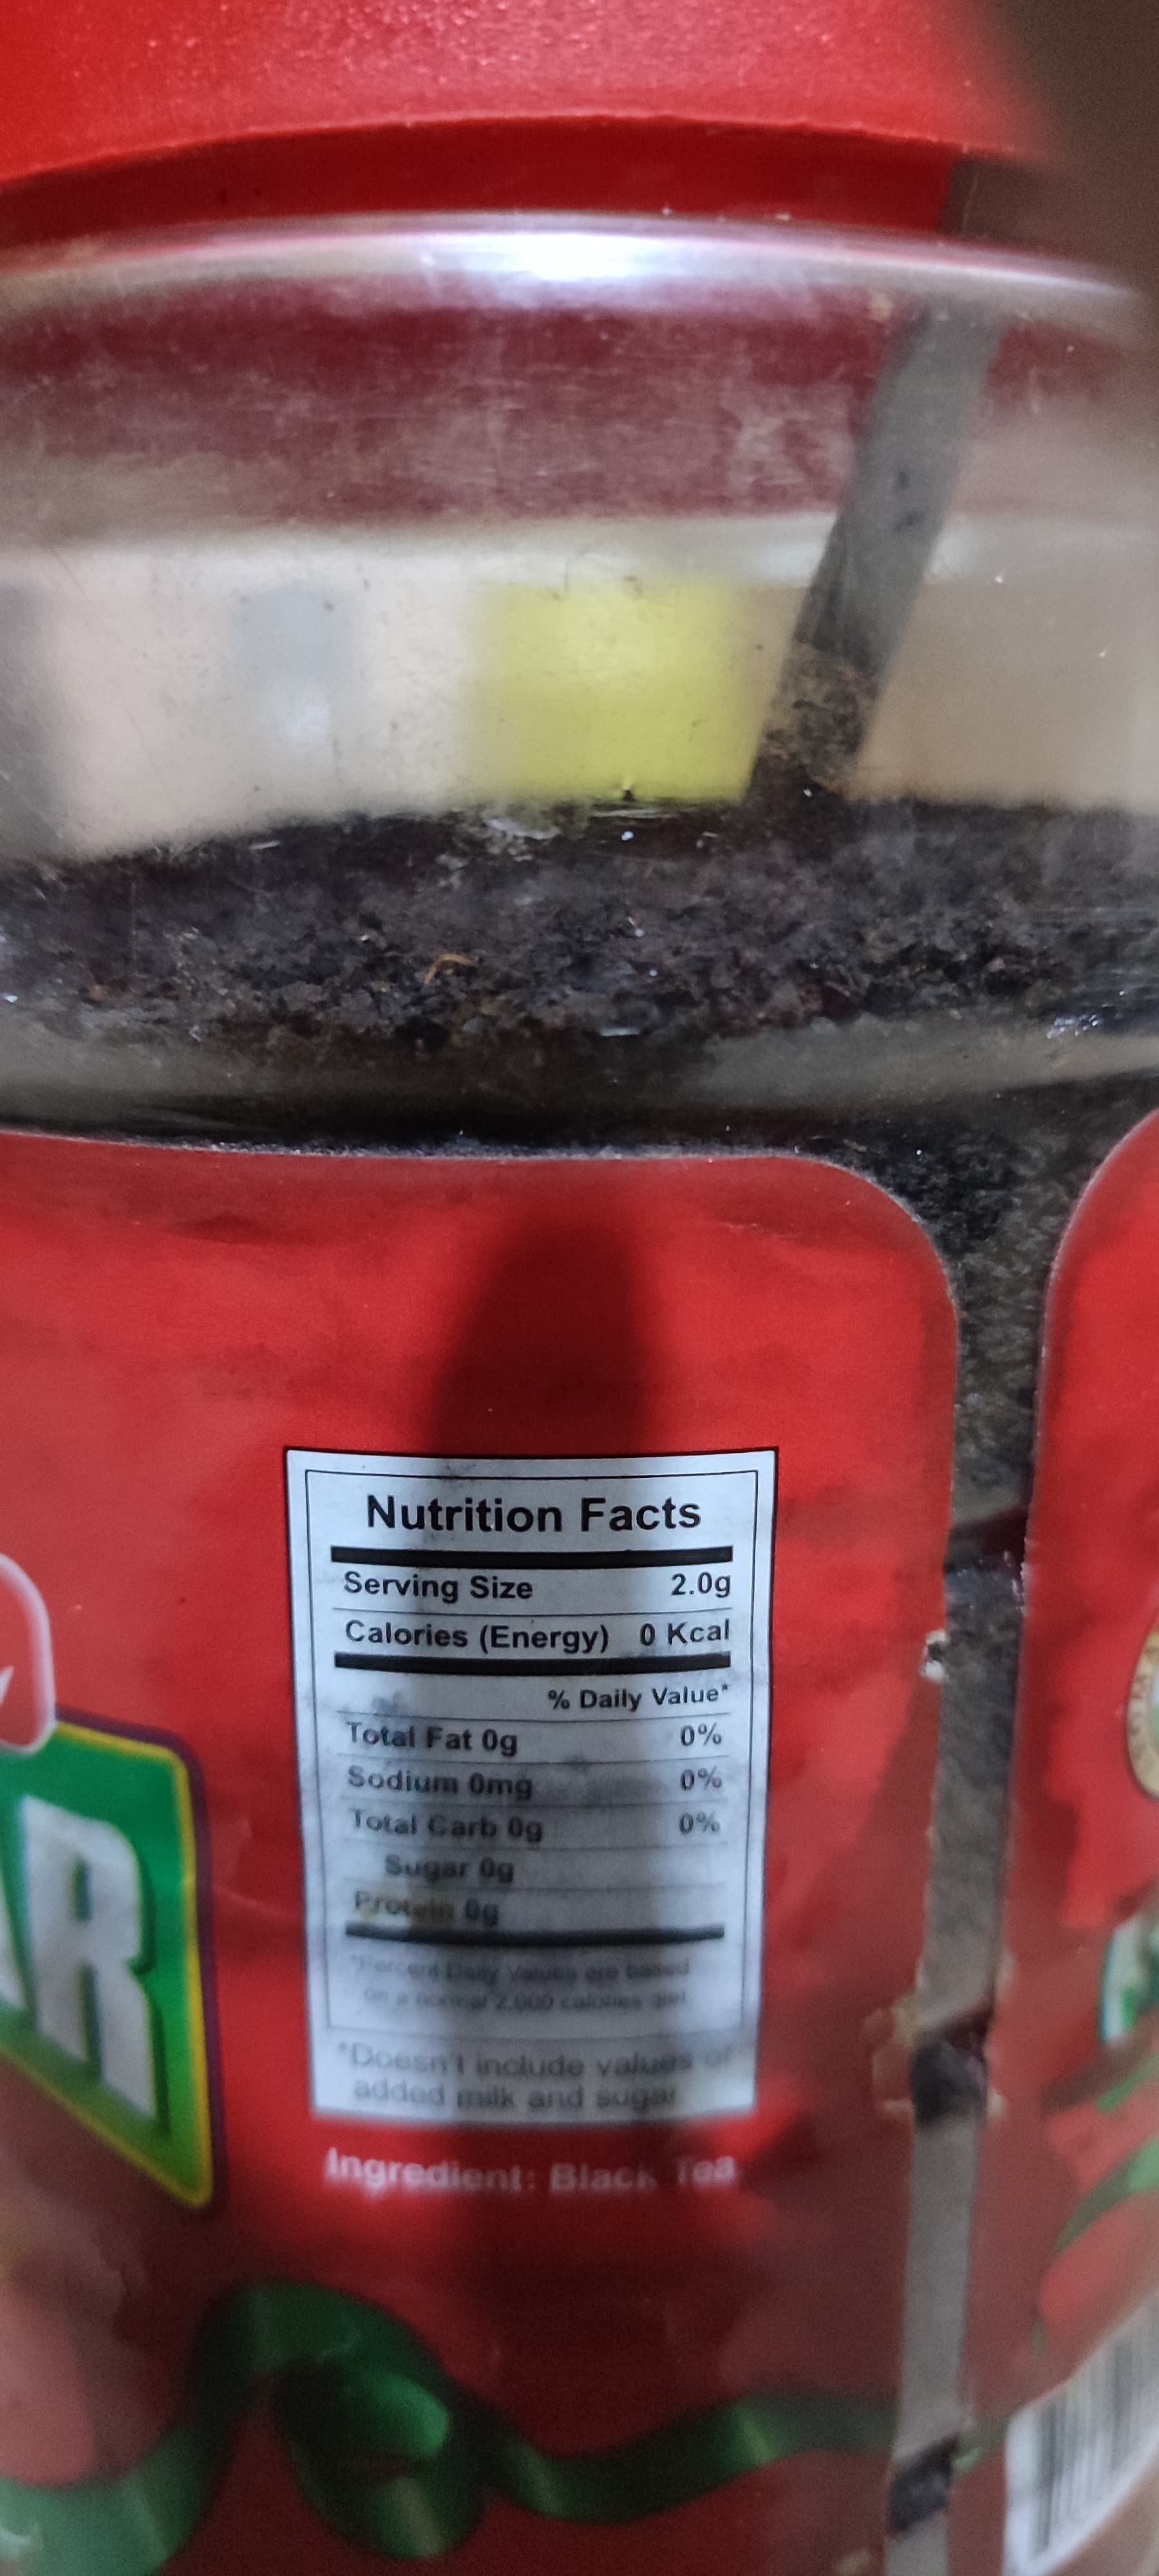table: (269, 1424, 783, 2139)
